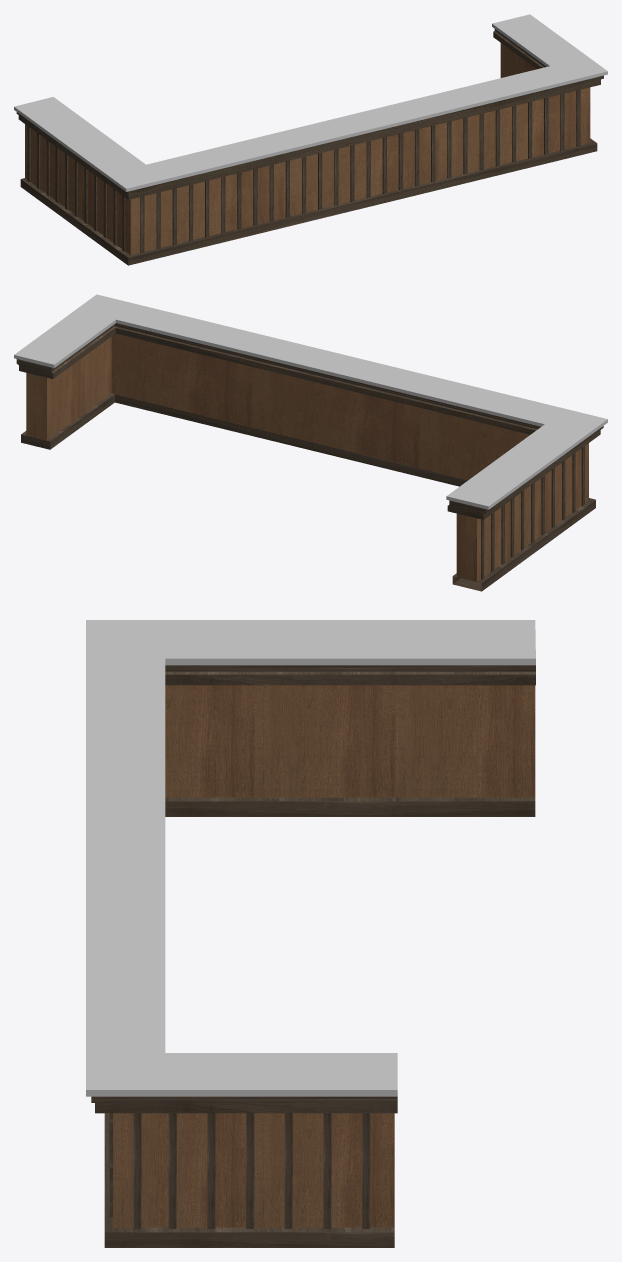
Rendered from Bar structure 1.FBX.
3 renders of one model, top to bottom at view 1: azimuth 30°, elevation 25°; view 2: azimuth 150°, elevation 25°; view 3: azimuth 270°, elevation 25°, orthographic. The views are drawn at different scales.
Visible parts, largest first — view 1: bar structure 1; view 2: bar structure 1; view 3: bar structure 1.
Boxes of the visible parts, <box> form: bar structure 1: <box>14,14,607,265</box>; bar structure 1: <box>14,294,607,591</box>; bar structure 1: <box>86,620,535,1247</box>.
Bounding box in the file's own units: 646 × 105 × 261.
